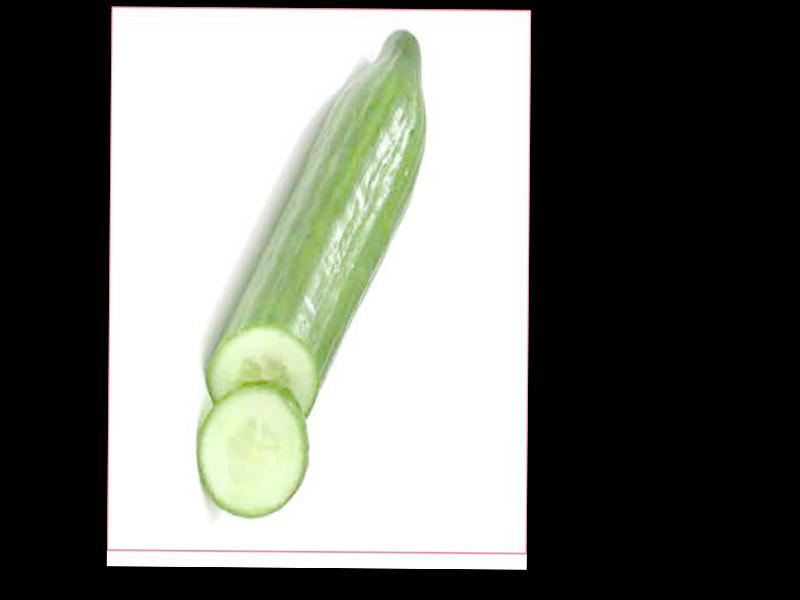Cucumber: (205, 27, 425, 425)
